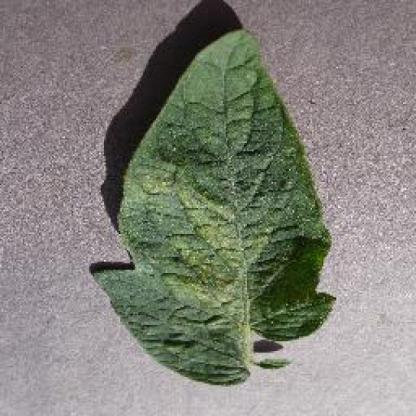Tomato_Spider_Mites: (96, 29, 335, 379)
